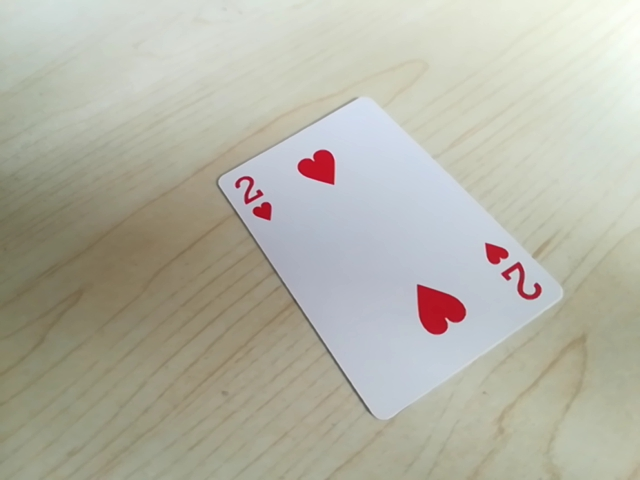hx 2: (482, 236, 544, 307), (225, 160, 274, 227)
